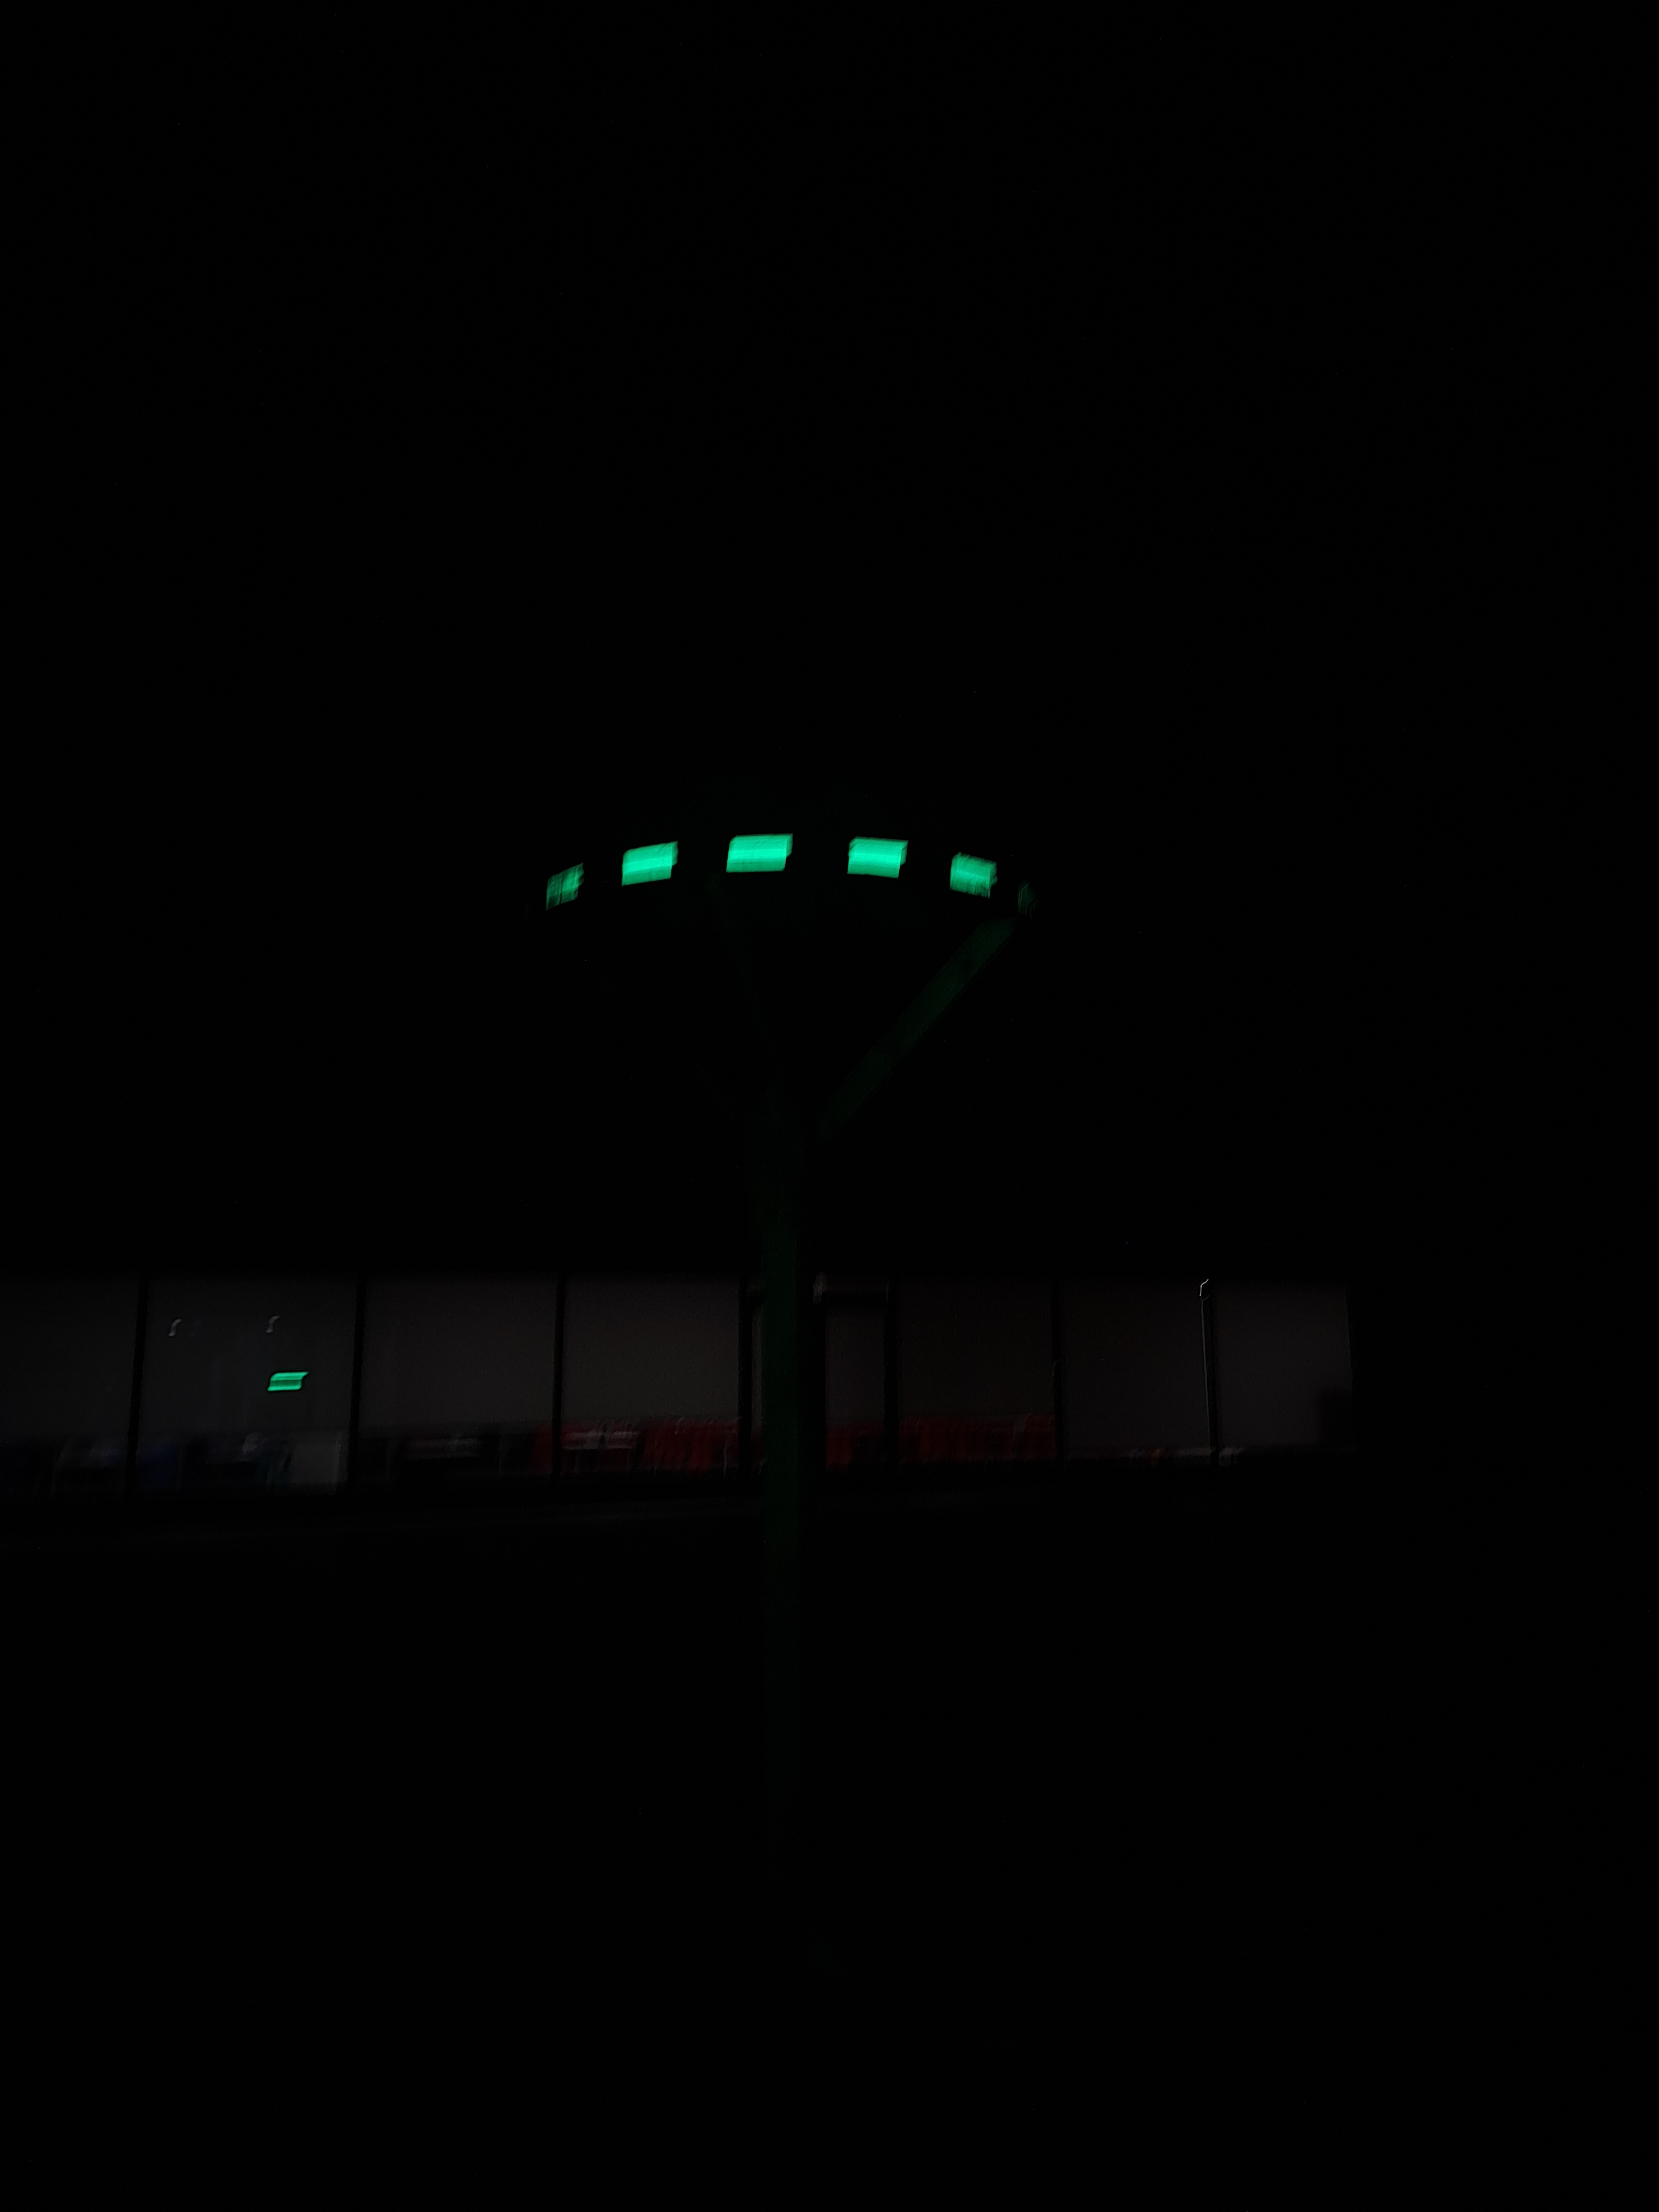hoop: (538, 822, 1002, 920)
